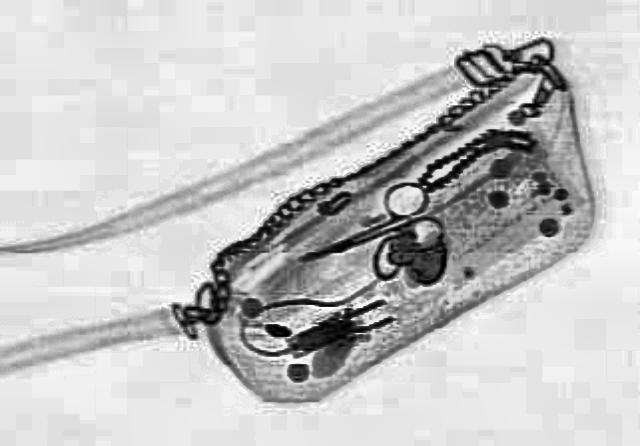Scissors: (272, 177, 462, 285)
